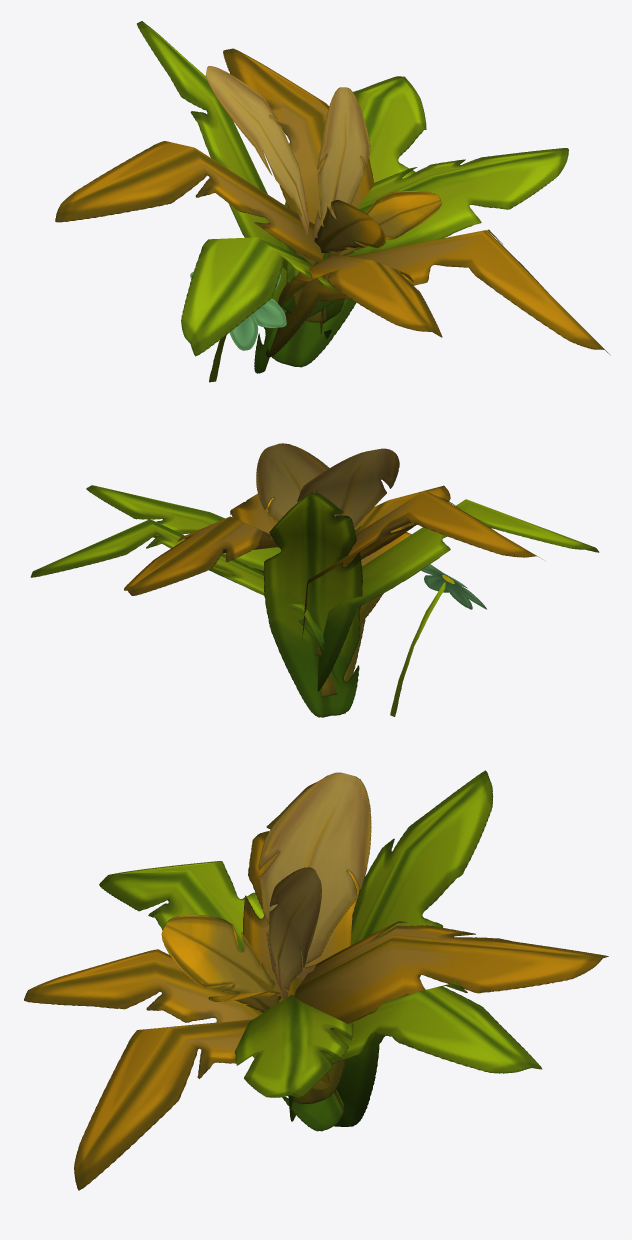
File: 1_Arbusto_Con_Flor.fbx
3 views of the same model, one above another, from view 1: azimuth 30°, elevation 25°; view 2: azimuth 150°, elevation 25°; view 3: azimuth 270°, elevation 25° (orthographic). The views are drawn at different scales.
Visible parts, largest first — view 1: 1_Arbusto.003; view 2: 1_Arbusto.003; view 3: 1_Arbusto.003.
Boxes of the visible parts, x1,y1,x2,y2 form: 1_Arbusto.003: (55,21,610,382); 1_Arbusto.003: (30,443,599,717); 1_Arbusto.003: (24,770,608,1190).
Bounding box in the file's own units: 131 × 77.51 × 124.
